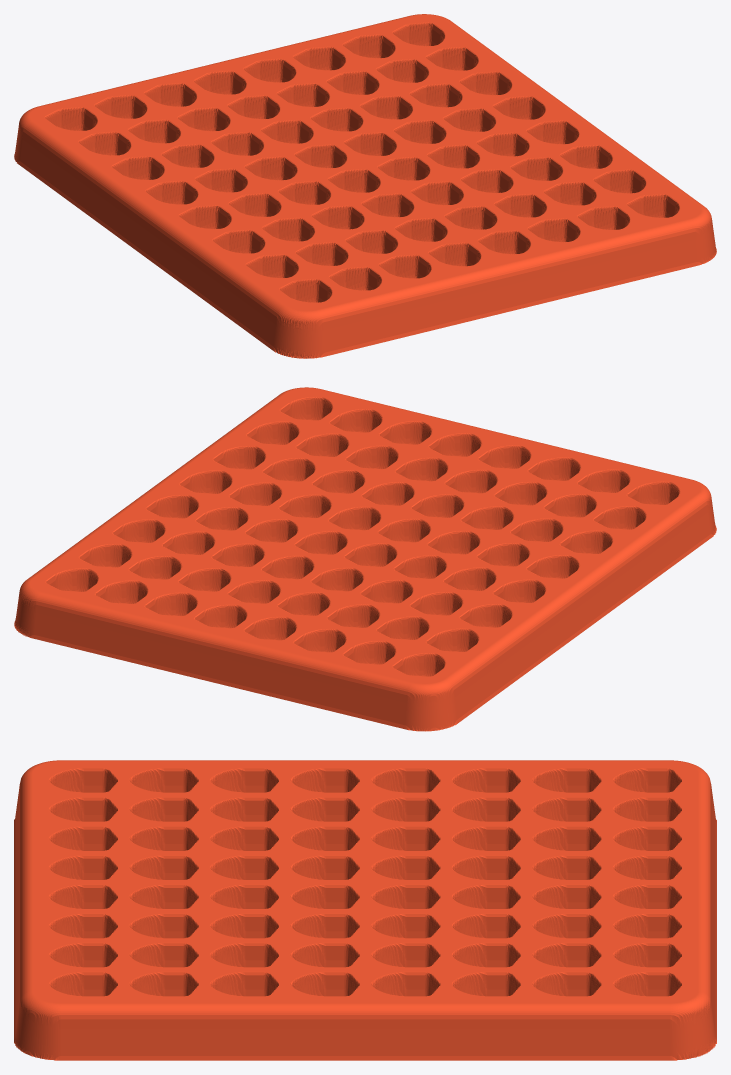
File: mold.glb
3 renders of one model, top to bottom at view 1: azimuth 30°, elevation 25°; view 2: azimuth 150°, elevation 25°; view 3: azimuth 270°, elevation 25°, orthographic. The views are drawn at different scales.
Parts seen in each view (by area): view 1: geometry_0; view 2: geometry_0; view 3: geometry_0.
Boxes of the visible parts, bbox=[...] form: geometry_0: bbox=[14, 14, 716, 358]; geometry_0: bbox=[14, 387, 716, 731]; geometry_0: bbox=[14, 760, 716, 1060].
Bounding box in the file's own units: 0.1175 × 0.0105 × 0.1355.
